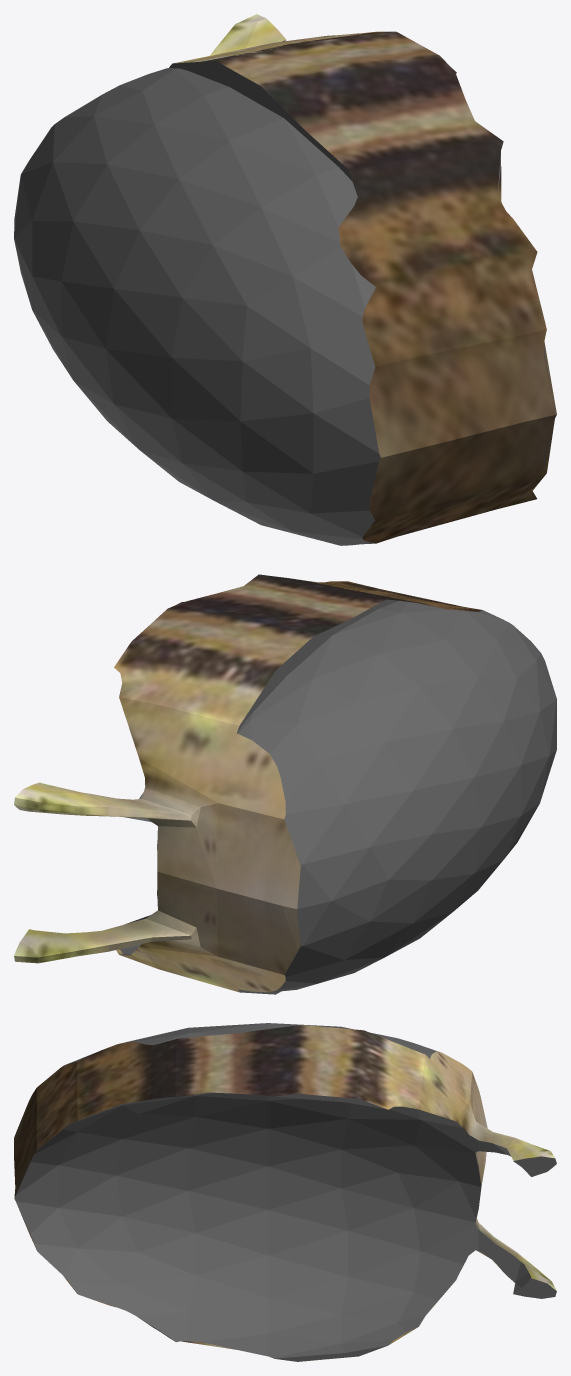
File: link_5_composite.obj
3 views of the same model, one above another, from view 1: azimuth 30°, elevation 25°; view 2: azimuth 150°, elevation 25°; view 3: azimuth 270°, elevation 25° (orthographic). The views are drawn at different scales.
Bounding box in the file's own units: 0.00201 × 0.00218 × 0.00378.
1 material, 1 textured.
